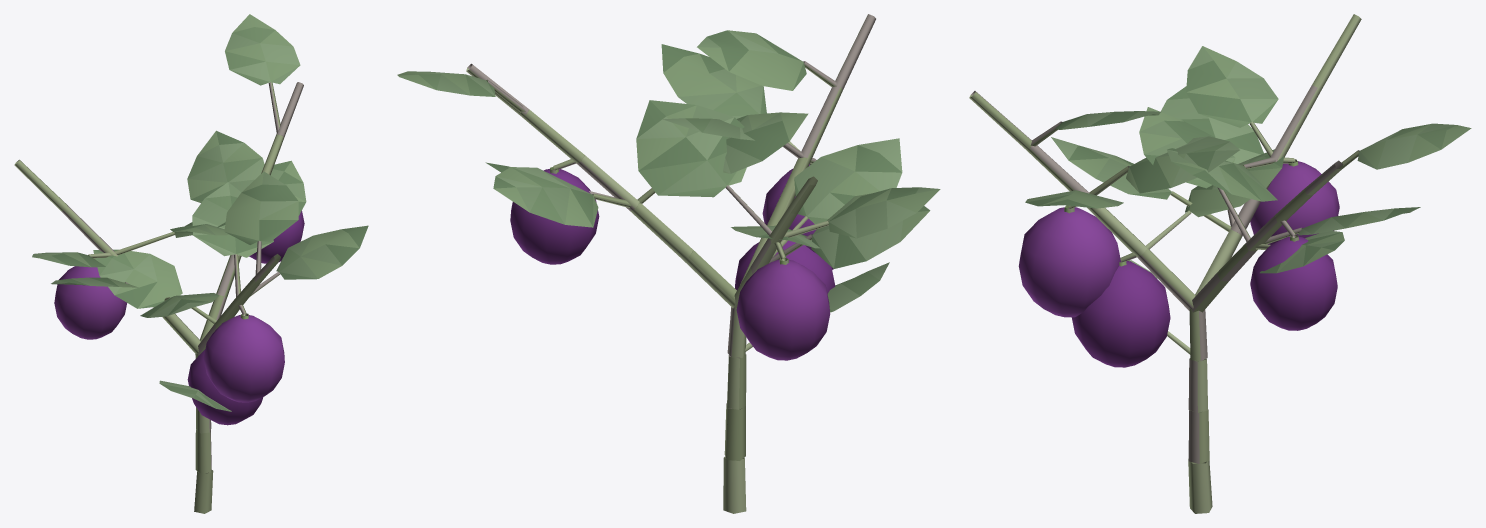
File: aubergine_ronde_fruits.glb
The picture shows the model from 3 angles, left to right: view 1: azimuth 30°, elevation 25°; view 2: azimuth 150°, elevation 25°; view 3: azimuth 270°, elevation 25°; orthographic projection. The views are drawn at different scales.
Parts seen in each view (by area): view 1: Aubergine_Feuilles, Aubergine_Fruits, Aubergine_Tiges; view 2: Aubergine_Feuilles, Aubergine_Tiges, Aubergine_Fruits; view 3: Aubergine_Feuilles, Aubergine_Fruits, Aubergine_Tiges.
Part boxes in pixels (x1,y1,x2,y2): Aubergine_Feuilles: (32, 14, 368, 411); Aubergine_Fruits: (54, 211, 304, 425); Aubergine_Tiges: (14, 82, 303, 513); Aubergine_Feuilles: (397, 30, 940, 312); Aubergine_Tiges: (466, 14, 875, 513); Aubergine_Fruits: (510, 164, 835, 360); Aubergine_Feuilles: (1025, 46, 1471, 278); Aubergine_Fruits: (1018, 161, 1339, 367); Aubergine_Tiges: (969, 14, 1361, 513).
Size of the model in its own units: 0.5688 by 0.6159 by 0.5885.
